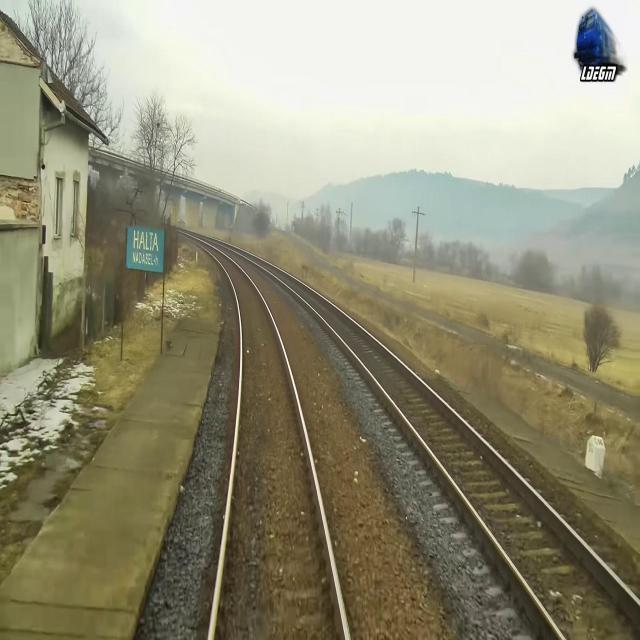rail-track: (202, 236, 640, 639), (178, 231, 345, 639)
